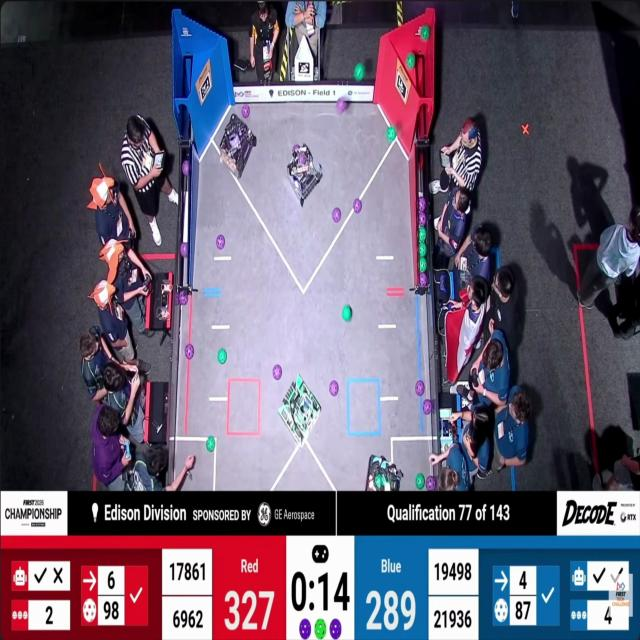artifact_green: (315, 619, 326, 639), (354, 63, 365, 81), (415, 473, 425, 490), (342, 305, 352, 321), (406, 53, 415, 69), (375, 474, 384, 490), (387, 126, 396, 142), (206, 436, 215, 452), (420, 26, 430, 40), (218, 349, 227, 364), (419, 258, 427, 272), (419, 227, 426, 242), (419, 242, 426, 257), (444, 445, 449, 451)
artifact_purple: (299, 619, 311, 639), (330, 619, 341, 639), (273, 364, 282, 381), (337, 98, 347, 113), (426, 476, 436, 491), (333, 207, 342, 223), (439, 275, 447, 293), (423, 399, 432, 415), (353, 198, 362, 214), (216, 234, 225, 250), (179, 290, 188, 305), (185, 344, 194, 359), (416, 381, 425, 396), (182, 160, 190, 176), (330, 381, 338, 396), (418, 197, 426, 211), (419, 273, 427, 287), (180, 243, 188, 257), (242, 105, 250, 118), (419, 212, 426, 226), (299, 152, 306, 164), (293, 144, 300, 153)
